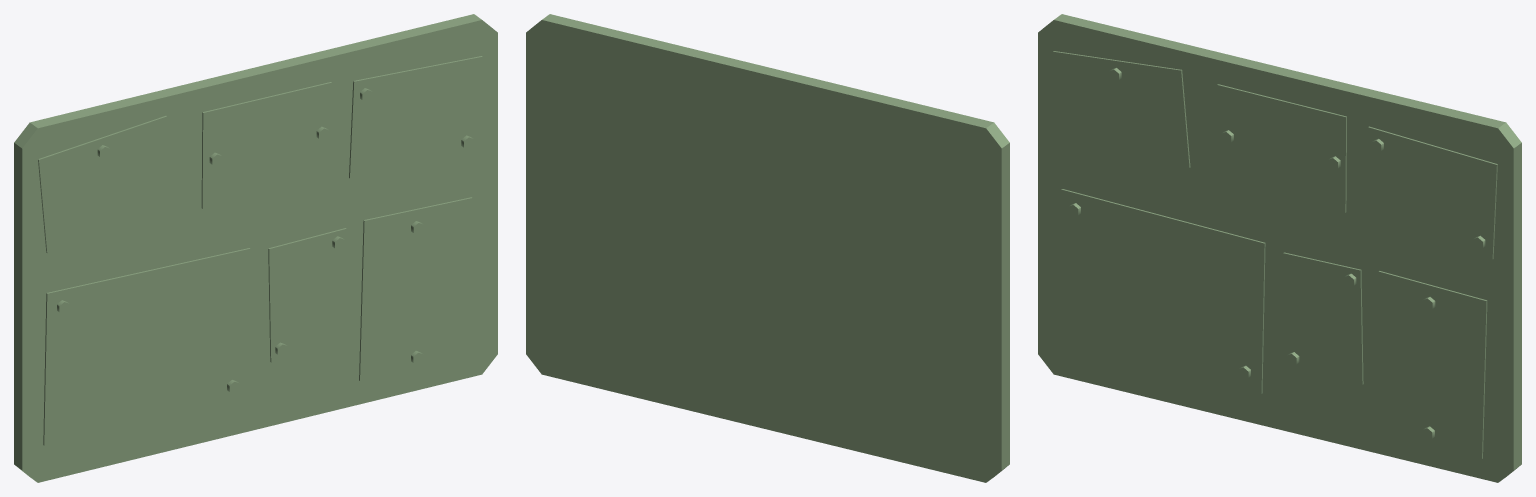
The model's file is Board_Magnetic_V2.fbx.
3 renders of one model, left to right at view 1: azimuth 30°, elevation 25°; view 2: azimuth 150°, elevation 25°; view 3: azimuth 330°, elevation 25°, orthographic.
Parts seen in each view (by area): view 1: Board_Magnetic_V2; view 2: Board_Magnetic_V2; view 3: Board_Magnetic_V2.
Boxes of the visible parts, x1,y1,x2,y2 form: Board_Magnetic_V2: (14, 14, 497, 482); Board_Magnetic_V2: (526, 14, 1009, 482); Board_Magnetic_V2: (1038, 14, 1521, 482).
Bounding box in the file's own units: 126 × 89.47 × 5.3.
